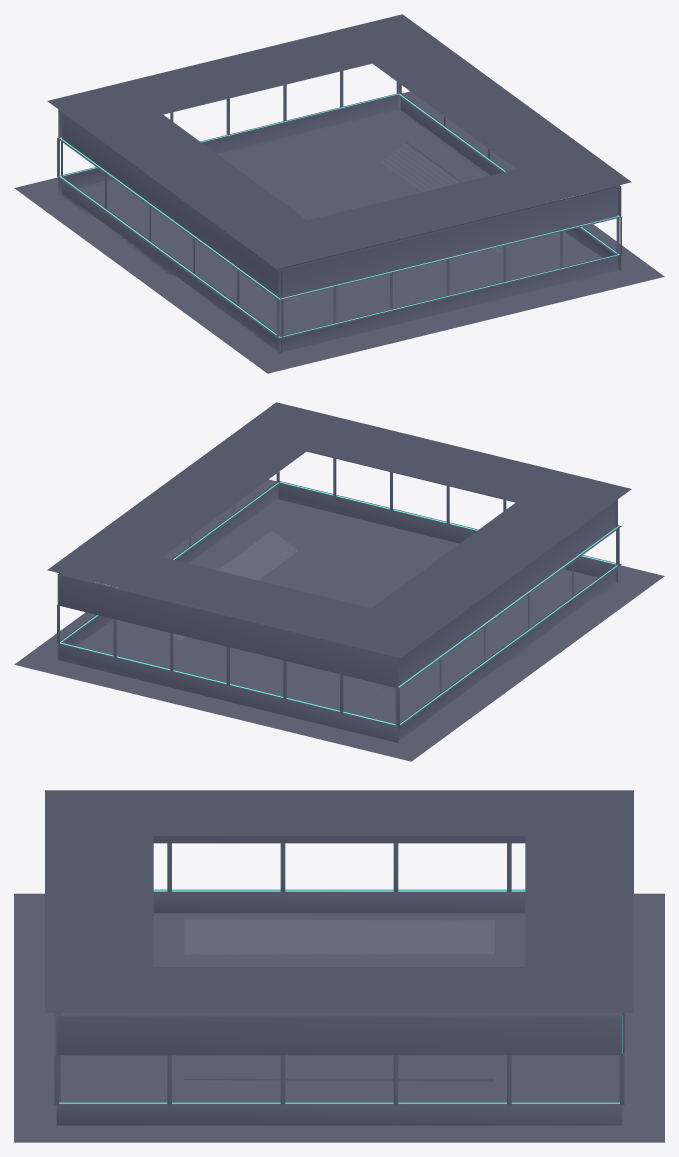
Rendered from env_lod1.glb.
3 renders of one model, top to bottom at view 1: azimuth 30°, elevation 25°; view 2: azimuth 150°, elevation 25°; view 3: azimuth 270°, elevation 25°, orthographic. The views are drawn at different scales.
Visible parts, largest first — view 1: neon_hall, gym_floor; view 2: neon_hall, gym_floor; view 3: neon_hall, gym_floor.
Part boxes in pixels (x1,y1,x2,y2): neon_hall: (47, 14, 631, 354); gym_floor: (14, 91, 664, 373); neon_hall: (47, 402, 631, 742); gym_floor: (14, 479, 664, 761); neon_hall: (45, 790, 633, 1125); gym_floor: (14, 893, 664, 1142).
Size of the model in its own units: 76 by 16.6 by 84.
